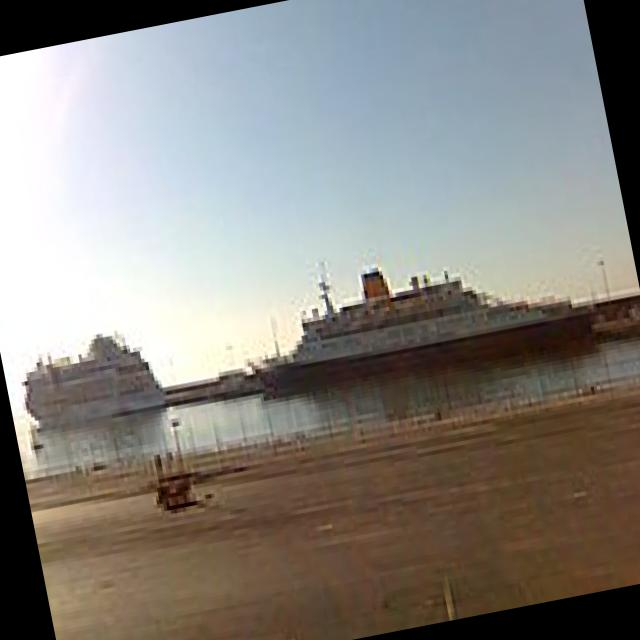boat: (279, 230, 605, 406), (20, 331, 174, 437)
